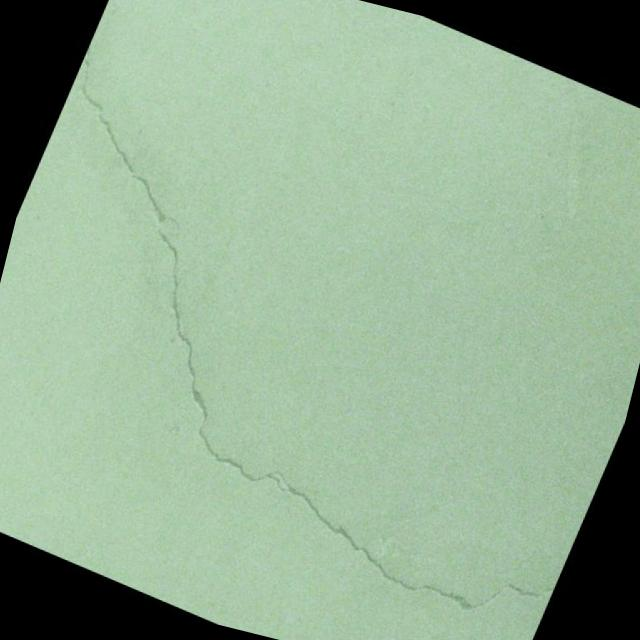crack: (46, 219, 640, 640), (26, 37, 242, 248)
